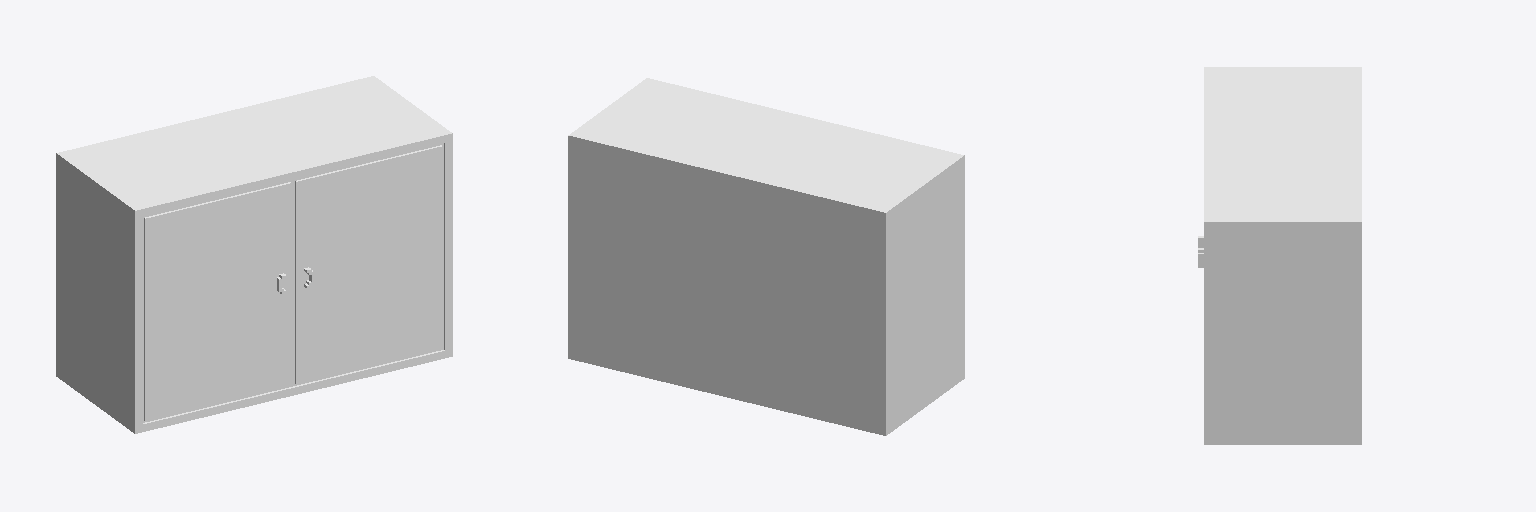
Rendered from PrateleiraHospital.obj.
The picture shows the model from 3 angles: view 1: azimuth 30°, elevation 25°; view 2: azimuth 150°, elevation 25°; view 3: azimuth 270°, elevation 25°; orthographic projection.
Visible parts, largest first — view 1: object 1; view 2: object 1; view 3: object 1.
Boxes of the visible parts, box(x1,y1,x2,y2) form: object 1: box(56, 76, 452, 433); object 1: box(568, 78, 964, 435); object 1: box(1198, 67, 1361, 444).
Size of the model in its own units: 12.8 by 8.6 by 5.7.